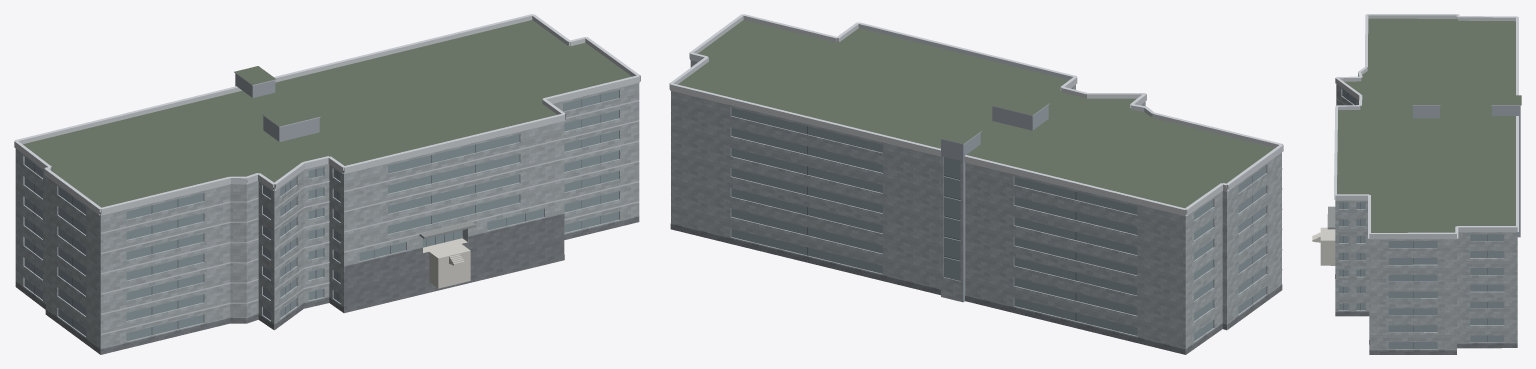
3 renders of one model, left to right at view 1: azimuth 30°, elevation 25°; view 2: azimuth 150°, elevation 25°; view 3: azimuth 270°, elevation 25°, orthographic. The views are drawn at different scales.
Parts seen in each view (by area): view 1: b35__wall, b35__roof, b35__glass, b35__trim, b35__base, b35__entranceStair, b35__wall2, b35__frame; view 2: b35__wall, b35__roof, b35__glass, b35__trim, b35__base, b35__wall2; view 3: b35__roof, b35__wall, b35__glass, b35__trim, b35__base, b35__wall2, b35__entranceStair, b35__frame, b35__canopy.
Boxes of the visible parts, x1,y1,x2,y2 form: b35__wall: [15, 83, 639, 354]; b35__roof: [23, 20, 631, 313]; b35__glass: [24, 90, 619, 341]; b35__trim: [14, 14, 640, 335]; b35__base: [15, 213, 639, 354]; b35__entranceStair: [423, 238, 470, 288]; b35__wall2: [235, 73, 319, 141]; b35__frame: [34, 94, 600, 334]; b35__wall: [671, 60, 1281, 354]; b35__roof: [678, 20, 1274, 213]; b35__glass: [731, 107, 1266, 341]; b35__trim: [669, 14, 1283, 269]; b35__base: [670, 223, 1282, 354]; b35__wall2: [941, 105, 1048, 301]; b35__roof: [1337, 18, 1521, 348]; b35__wall: [1335, 84, 1517, 350]; b35__glass: [1339, 89, 1504, 348]; b35__trim: [1334, 14, 1521, 315]; b35__base: [1335, 274, 1517, 354]; b35__wall2: [1413, 105, 1520, 237]; b35__entranceStair: [1312, 227, 1335, 265]; b35__frame: [1343, 93, 1487, 348]; b35__canopy: [1327, 206, 1335, 229].
Bounding box in the file's own units: 101 × 28.37 × 40.53.
10 materials, 2 textured.
